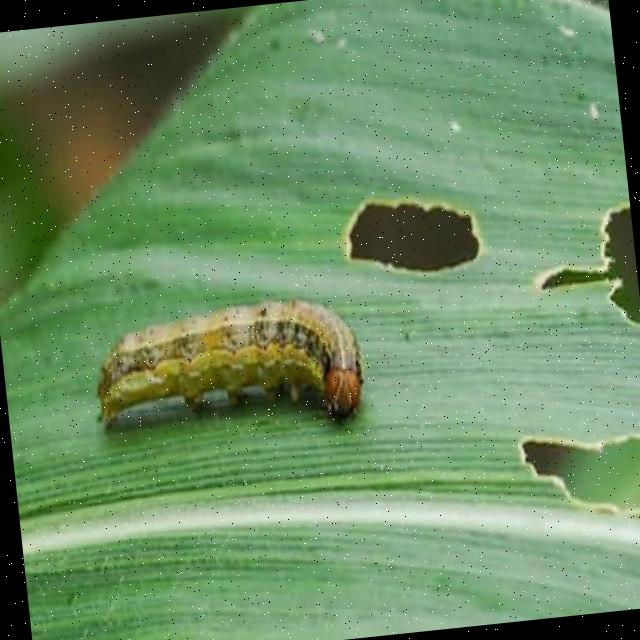worm: (87, 289, 370, 449)
